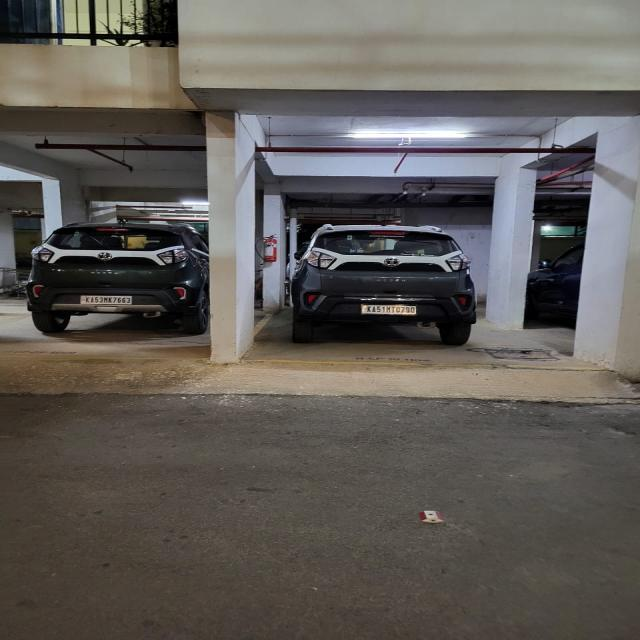car: (284, 212, 493, 350), (28, 212, 204, 349)
